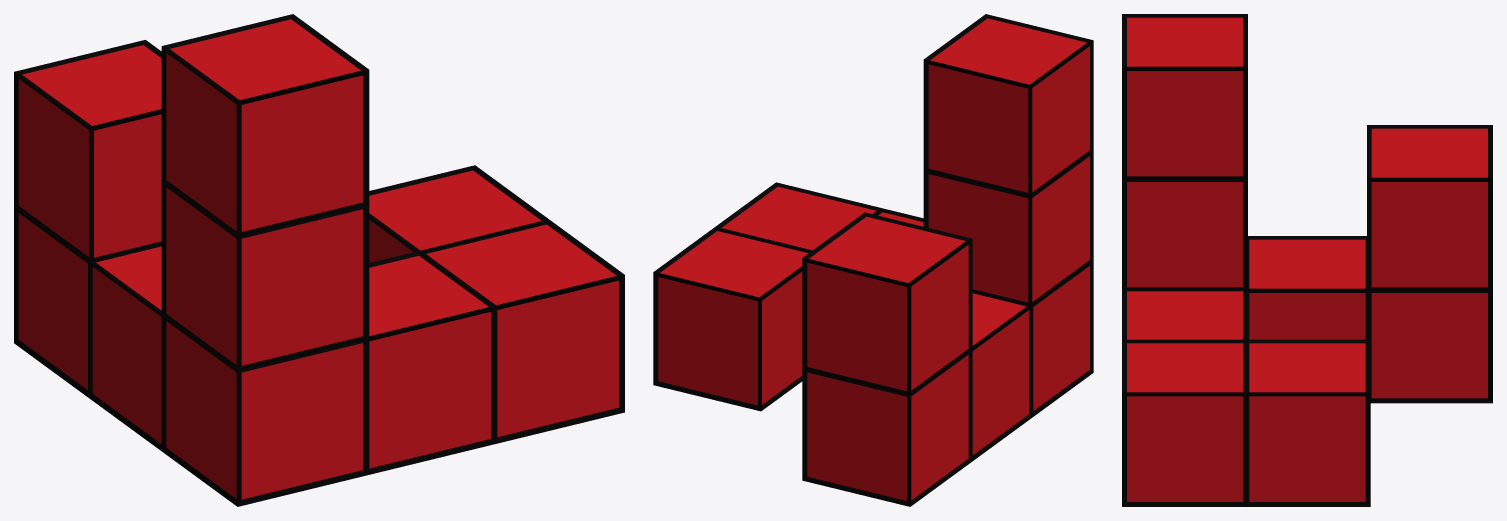
The picture shows the model from 3 angles, left to right: view 1: azimuth 30°, elevation 25°; view 2: azimuth 150°, elevation 25°; view 3: azimuth 270°, elevation 25°; orthographic projection. The views are drawn at different scales.
Visible parts, largest first — view 1: a2:Mesh; view 2: a2:Mesh; view 3: a2:Mesh.
Boxes of the visible parts, x1,y1,x2,y2 form: a2:Mesh: [14, 14, 624, 506]; a2:Mesh: [653, 14, 1093, 506]; a2:Mesh: [1122, 14, 1492, 506].
Bounding box in the file's own units: 6.06 × 6.06 × 6.06.
